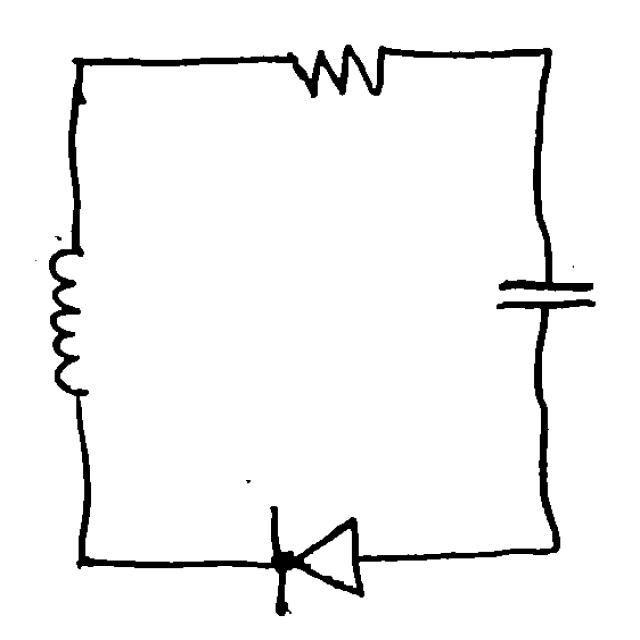capacitor: (481, 262, 607, 324)
diode: (246, 497, 376, 623)
inductor: (33, 228, 117, 417)
resistor: (262, 32, 405, 108)
